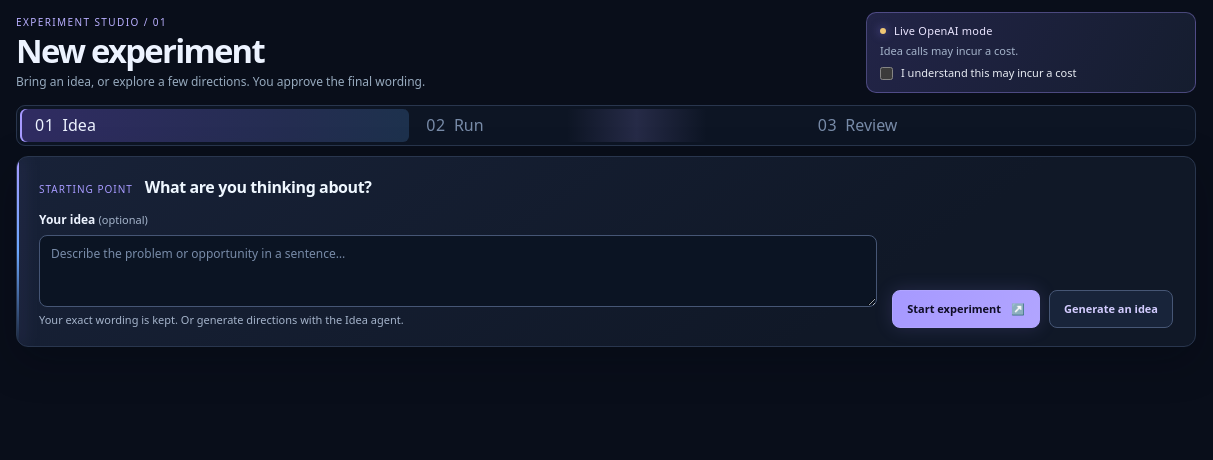
experiment creation checkpoint › requires explicit confirmation before a live idea launch
Expected: the text "generate directions with the Idea agent" is shown, [39,312,404,327]
Type "Clinic idea" into the text box labelled "Your idea".
click(458, 271); type("Clinic idea")  # box [39,235,877,307]
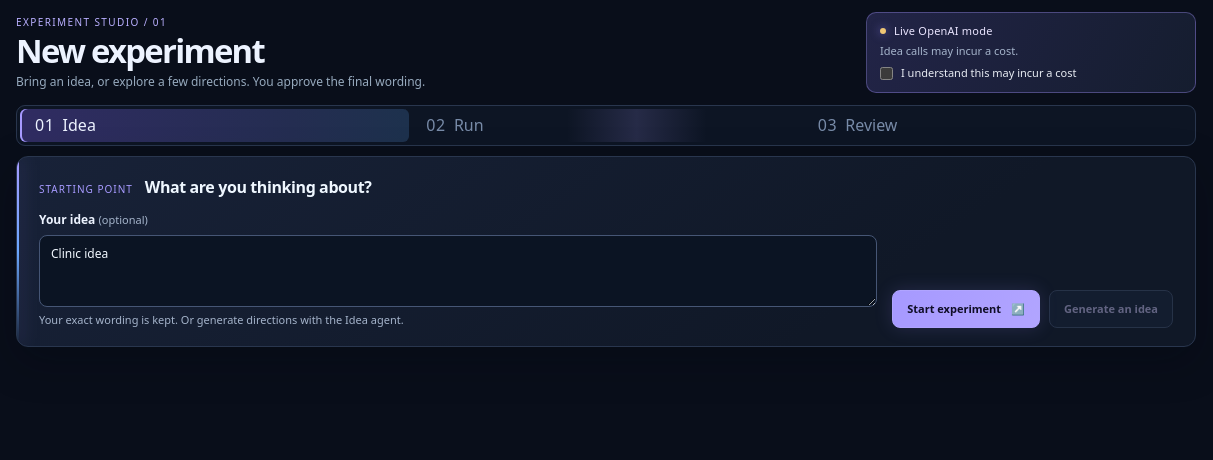
Click the button "Start experiment ↗".
click(966, 309)  # box [892,290,1040,328]
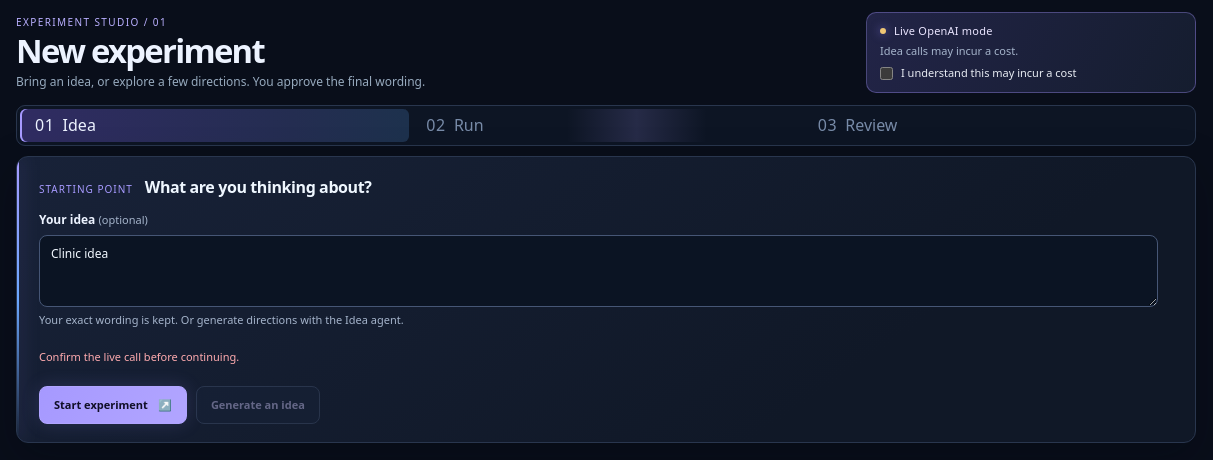
Now the message shows "Confirm the live call", box [39,349,239,364]
Click the checkbox labelled "I understand this may incur a cost".
click(886, 74)  # box [880,67,893,80]
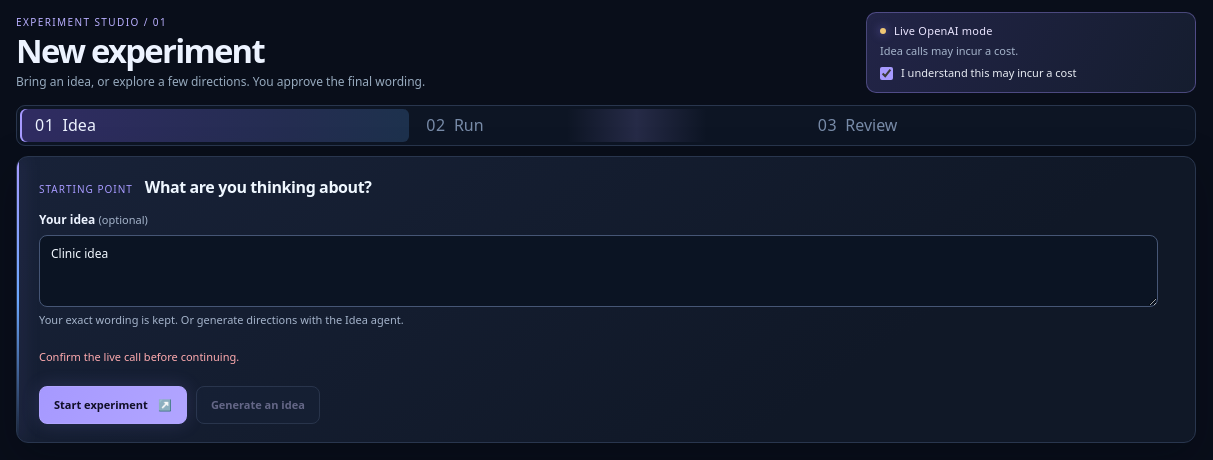
Click the button "Start experiment ↗".
click(113, 405)  # box [39,386,187,424]
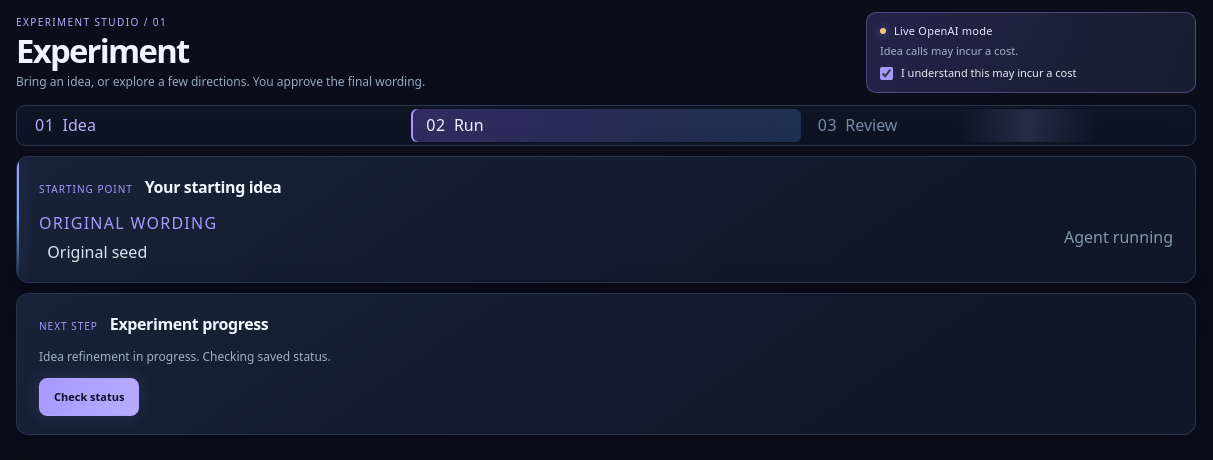
Now the text "Agent running" is shown, box [1064,225,1173,249]
